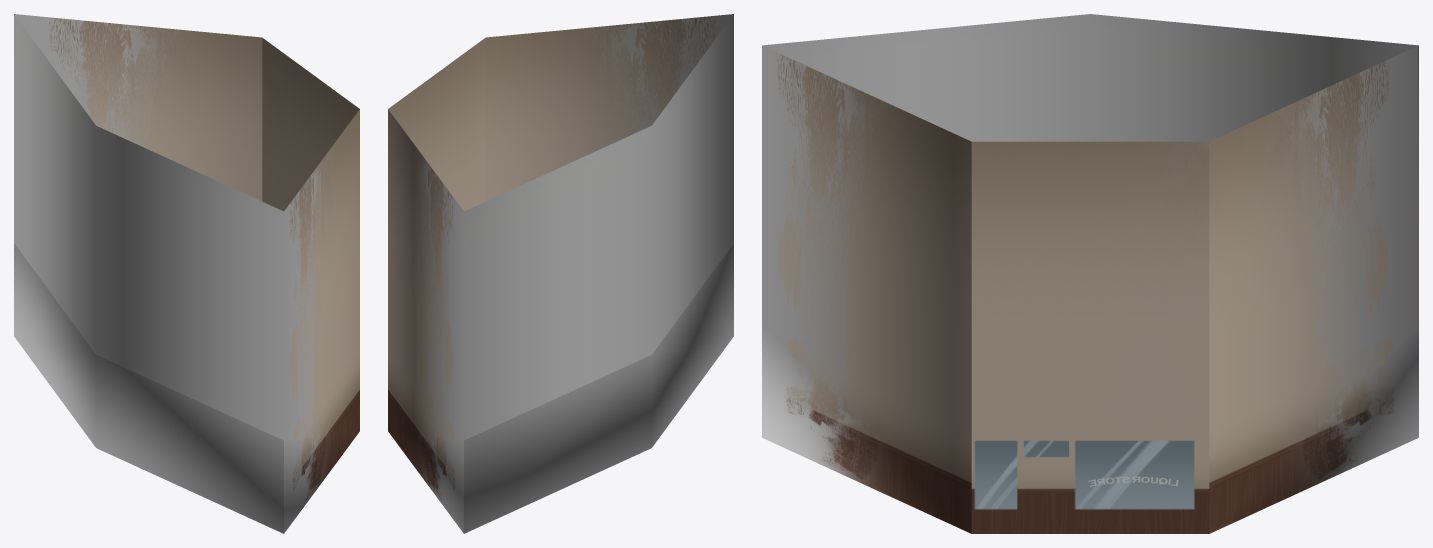
File: outside.fbx
The picture shows the model from 3 angles, left to right: view 1: azimuth 30°, elevation 25°; view 2: azimuth 150°, elevation 25°; view 3: azimuth 270°, elevation 25°; orthographic projection. The views are drawn at different scales.
Visible parts, largest first — view 1: pPlane2; view 2: pPlane2; view 3: pPlane2.
Part boxes in pixels (<box>): pPlane2: <box>14,14,359,533</box>; pPlane2: <box>388,14,733,533</box>; pPlane2: <box>762,14,1418,533</box>.
Size of the model in its own units: 975 by 1398 by 2121.
